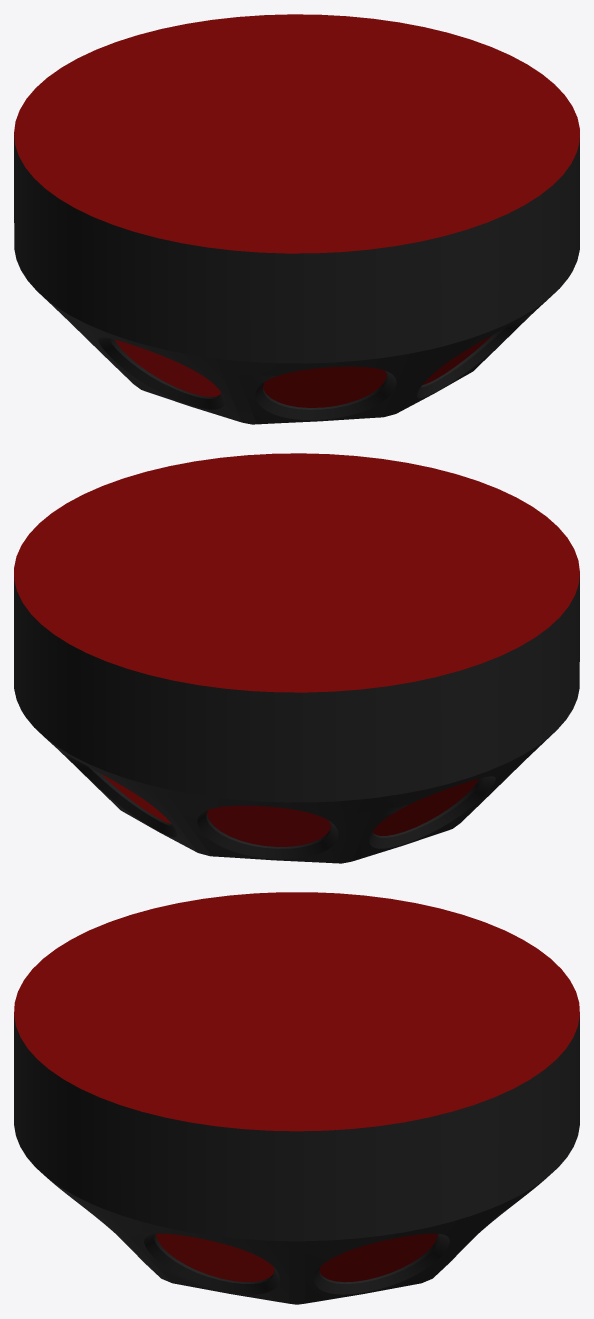
The model's file is dvl.fbx.
3 views of the same model, one above another, from view 1: azimuth 30°, elevation 25°; view 2: azimuth 150°, elevation 25°; view 3: azimuth 270°, elevation 25° (orthographic).
Parts seen in each view (by area): view 1: dvl; view 2: dvl; view 3: dvl.
Part boxes in pixels (left/top/right/bottom): dvl: left=14, top=14, right=579, bottom=424; dvl: left=14, top=453, right=579, bottom=863; dvl: left=14, top=892, right=579, bottom=1304.
Bounding box in the file's own units: 14 × 14 × 6.
